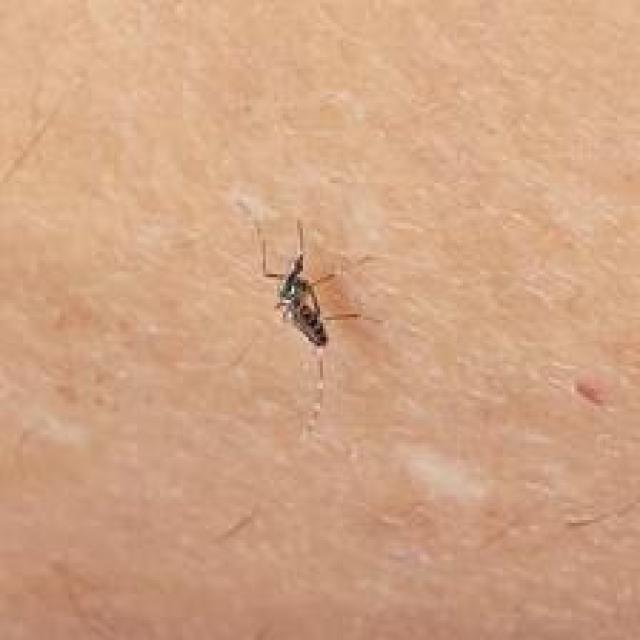Aedes albopictus: (253, 218, 367, 433)
